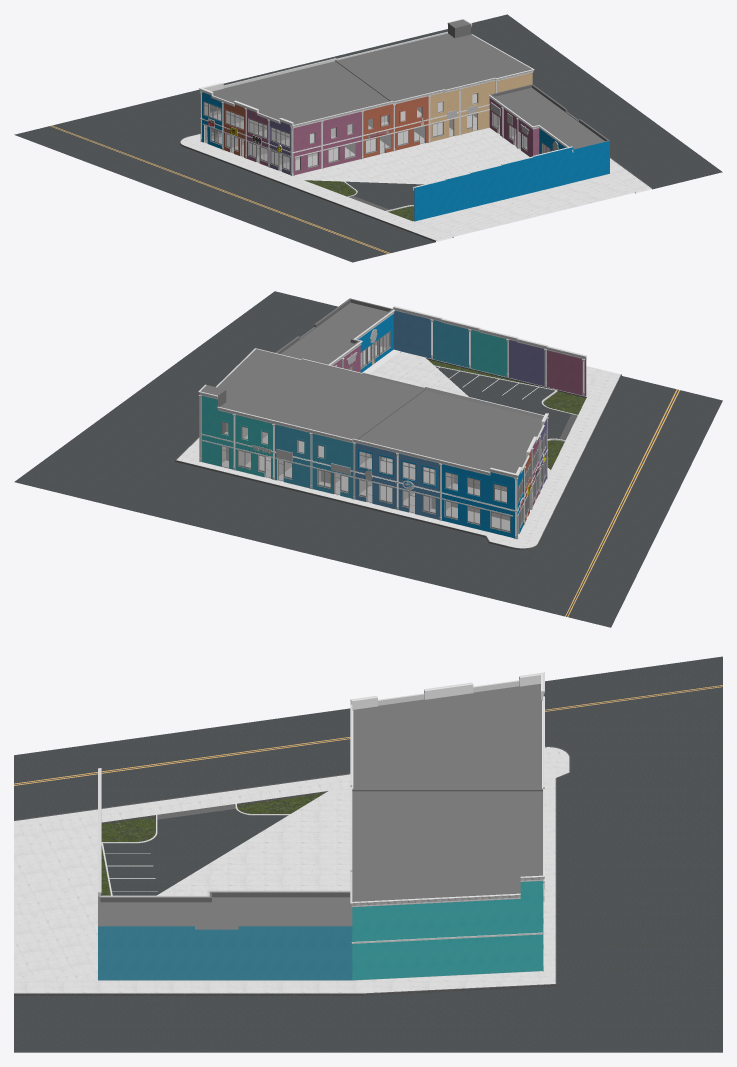
Rendered from exterior.fbx.
3 renders of one model, top to bottom at view 1: azimuth 30°, elevation 25°; view 2: azimuth 150°, elevation 25°; view 3: azimuth 270°, elevation 25°, orthographic. The views are drawn at different scales.
Visible parts, largest first — view 1: exterior edit; view 2: exterior edit; view 3: exterior edit.
Boxes of the visible parts, x1,y1,x2,y2 form: exterior edit: [14, 14, 722, 262]; exterior edit: [14, 291, 722, 627]; exterior edit: [14, 656, 722, 1052].
Bounding box in the file's own units: 212406 × 24323 × 160715.
